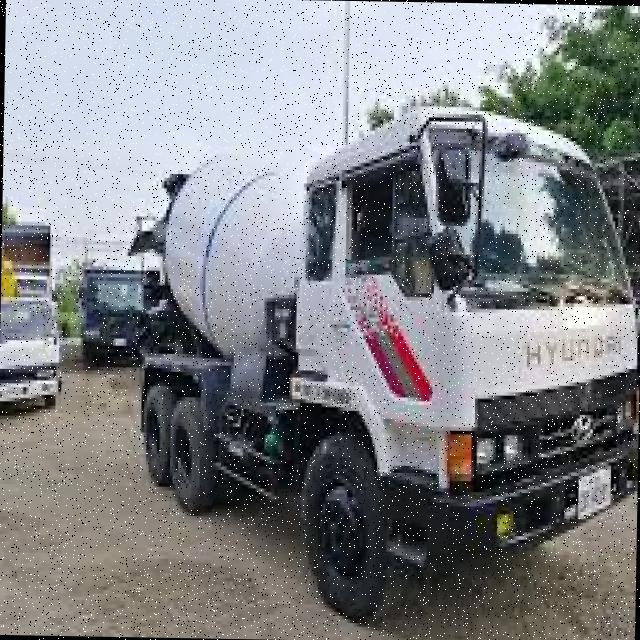Mixer Truck: (118, 93, 640, 630)
